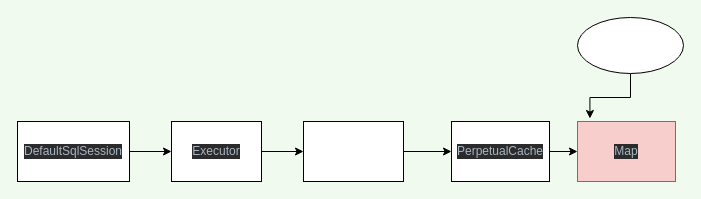
This 701x199 diagram has some shape labels left out. Each missing label, with the box of its shape:
BaseExecutor: (302, 120, 404, 182)
一级缓存: (576, 16, 684, 74)
